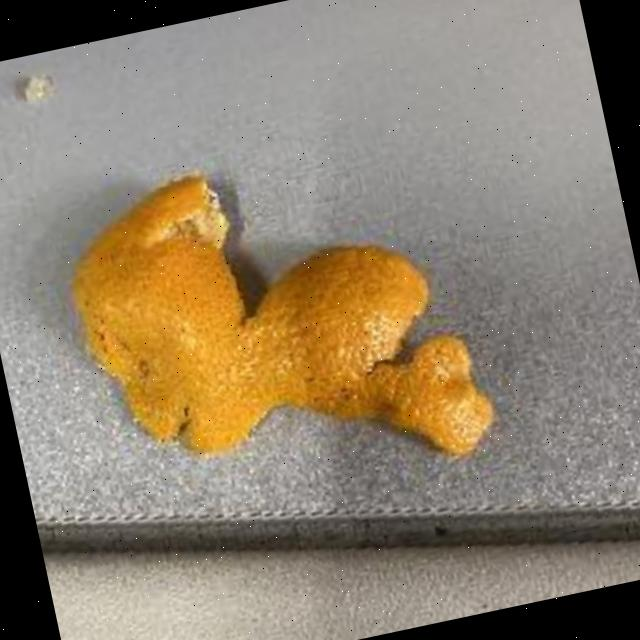orange-peel: (46, 116, 506, 533)
